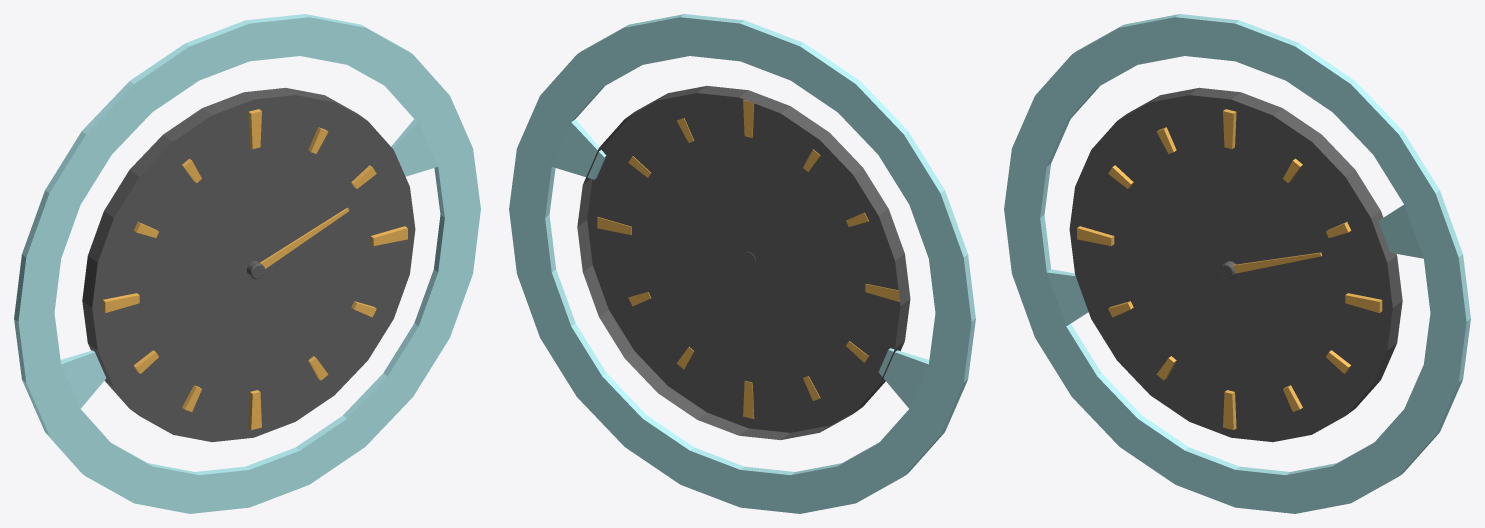
The model's file is ELT0110045.fbx.
3 renders of one model, left to right at view 1: azimuth 30°, elevation 25°; view 2: azimuth 150°, elevation 25°; view 3: azimuth 330°, elevation 25°, orthographic.
Visible parts, largest first — view 1: smELT0110045; view 2: smELT0110045; view 3: smELT0110045.
Part boxes in pixels (x1,y1,x2,y2): smELT0110045: [14, 14, 480, 513]; smELT0110045: [509, 14, 975, 513]; smELT0110045: [1004, 14, 1470, 513].
Size of the model in its own units: 53.39 by 53.39 by 2.92.
Materials: 1 (1 with a texture image).
